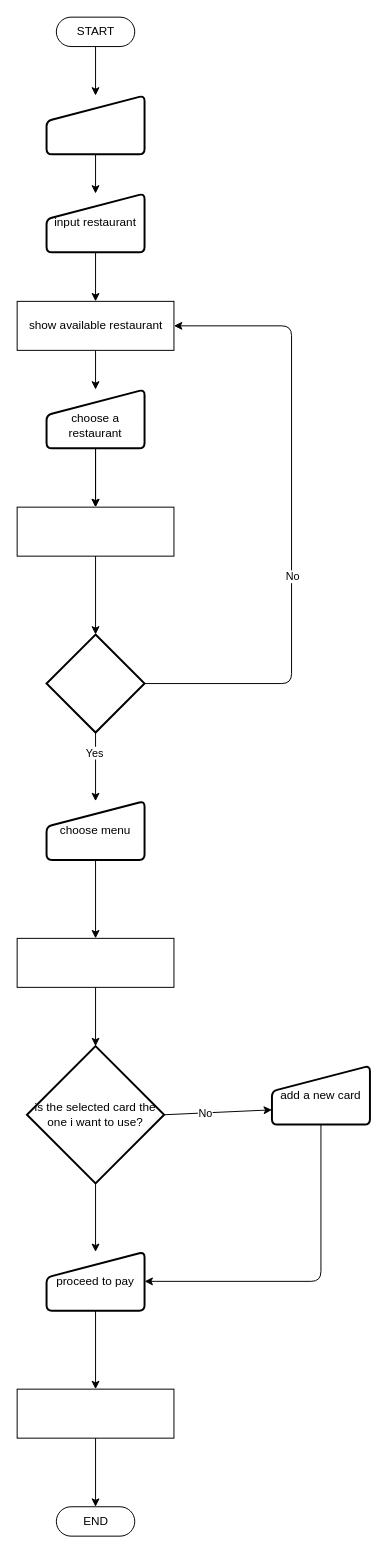
The diagram is 388 pixels wide and 1553 high, and some of its shapes have lost their labels. Each missing label, with the centre of its shape:
"input location" belongs at (x=95, y=124).
"is restaurant open?" belongs at (x=95, y=683).
"process the delivery" belongs at (x=95, y=962).
"show restaurant detail page" belongs at (x=95, y=531).
"view the delivery progress" belongs at (x=95, y=1413).
